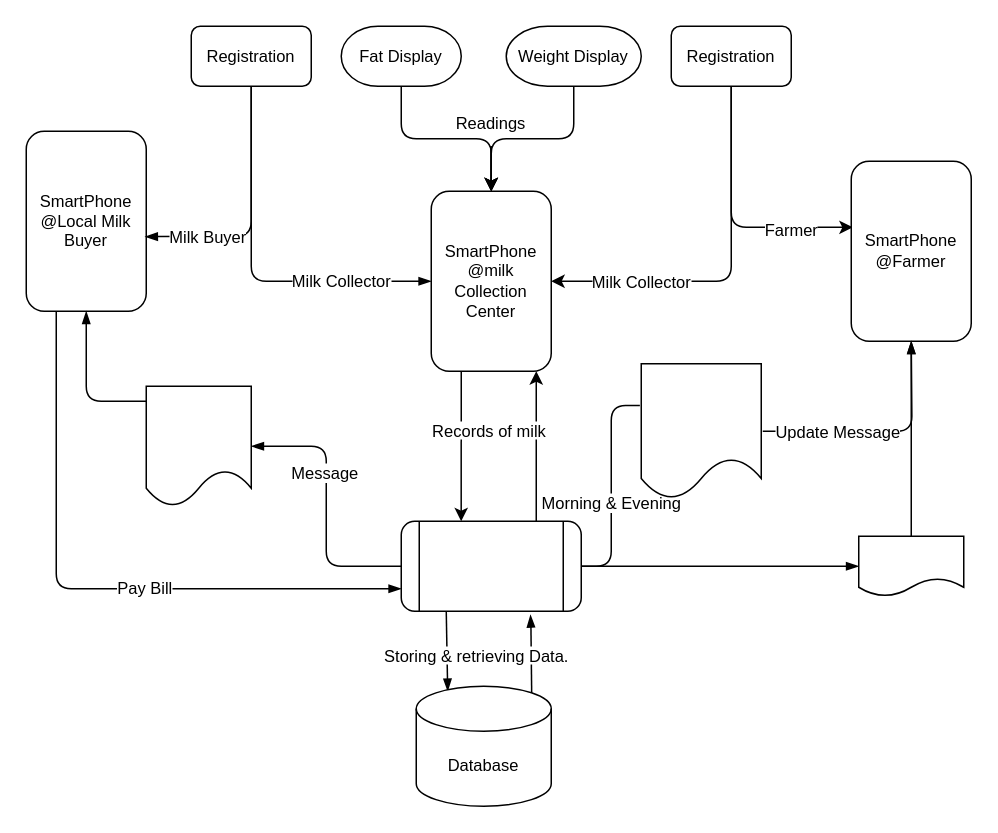
This 998x833 diagram has some shape labels left out. Here are the shapes that lost their labels. From the top down, the box of each, then its label:
(145, 385, 251, 506): Date,Qty, Rate,Cost.
(640, 362, 761, 499): Date, Qty,Fat,Rate, Cost,Milk Type.
(400, 520, 581, 611): Web Server
(857, 535, 964, 596): Bill of 10 Days
